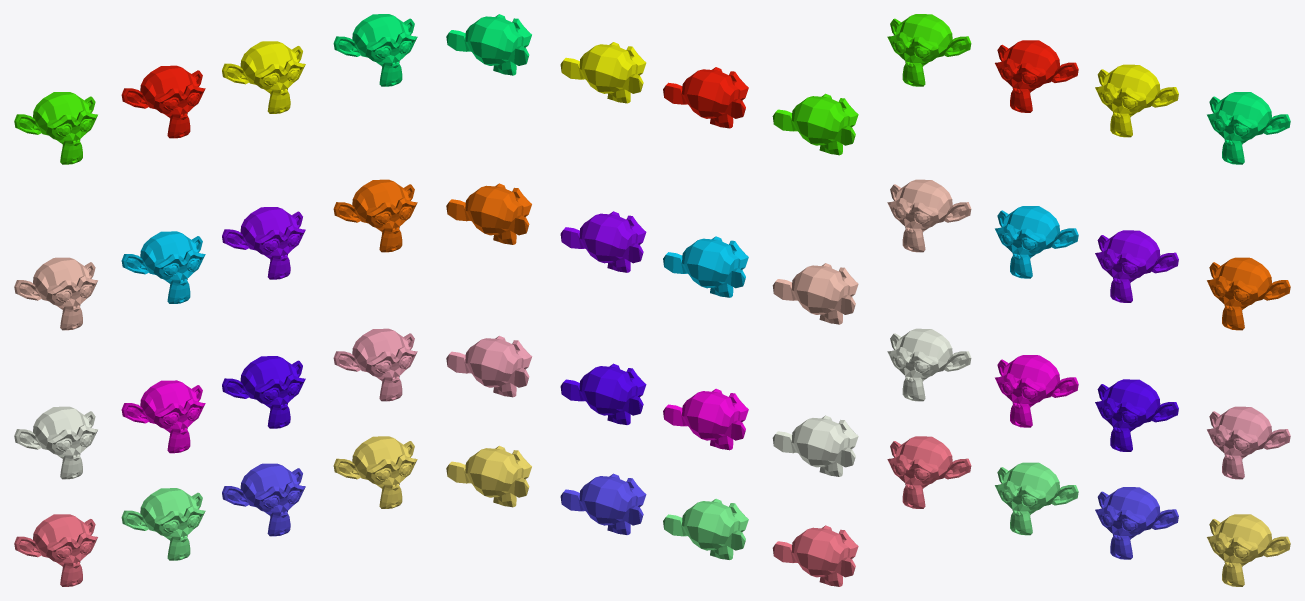
File: 1702891568_All2.glb
3 views of the same model, side by side, from view 1: azimuth 30°, elevation 25°; view 2: azimuth 150°, elevation 25°; view 3: azimuth 330°, elevation 25° (orthographic). The views are drawn at different scales.
Visible parts, largest first — view 1: Suzanne.007, Suzanne.009, Suzanne.005, Suzanne.011, Suzanne.013, Suzanne.001, Suzanne.016, Suzanne.004, Suzanne.015, Suzanne.002, Suzanne.003, Suzanne.008 (+4 smaller); view 2: Suzanne.013, Suzanne.003, Suzanne.012, Suzanne.009, Suzanne.015, Suzanne.011, Suzanne.010, Suzanne.004, Suzanne.005, Suzanne.014, Suzanne.001, Suzanne.007 (+4 smaller); view 3: Suzanne.001, Suzanne.012, Suzanne.016, Suzanne.007, Suzanne.013, Suzanne.005, Suzanne.010, Suzanne.011, Suzanne.003, Suzanne.008, Suzanne.004, Suzanne.014 (+4 smaller).
Part boxes in pixels (box(x1,y1,x2,y2)): Suzanne.007: box(14, 257, 97, 330); Suzanne.009: box(333, 14, 417, 86); Suzanne.005: box(121, 488, 205, 560); Suzanne.011: box(121, 65, 205, 138); Suzanne.013: box(333, 328, 417, 401); Suzanne.001: box(333, 179, 417, 252); Suzanne.016: box(14, 406, 97, 479); Suzanne.004: box(222, 463, 305, 536); Suzanne.015: box(121, 380, 205, 453); Suzanne.002: box(222, 207, 305, 279); Suzanne.003: box(333, 436, 417, 508); Suzanne.008: box(14, 514, 97, 586); Suzanne.013: box(446, 335, 532, 397); Suzanne.003: box(446, 445, 531, 507); Suzanne.012: box(772, 93, 858, 155); Suzanne.009: box(446, 14, 531, 75); Suzanne.015: box(663, 388, 748, 450); Suzanne.011: box(663, 67, 748, 128); Suzanne.010: box(560, 42, 646, 103); Suzanne.004: box(560, 473, 646, 534); Suzanne.005: box(663, 498, 748, 559); Suzanne.014: box(560, 363, 646, 424); Suzanne.001: box(446, 183, 531, 244); Suzanne.007: box(772, 263, 858, 324); Suzanne.001: box(1207, 257, 1290, 330); Suzanne.012: box(887, 14, 971, 86); Suzanne.016: box(887, 328, 971, 401); Suzanne.007: box(887, 179, 971, 252); Suzanne.013: box(1207, 406, 1290, 479); Suzanne.005: box(995, 462, 1078, 535); Suzanne.010: box(1095, 64, 1178, 137); Suzanne.011: box(995, 40, 1078, 112); Suzanne.003: box(1207, 514, 1290, 586); Suzanne.008: box(887, 436, 971, 508); Suzanne.004: box(1095, 487, 1178, 559); Suzanne.014: box(1095, 379, 1178, 451).
Size of the model in its own units: 13.58 by 15.68 by 1.7.
